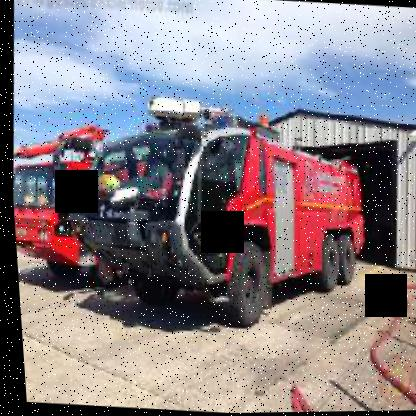emergency: (64, 74, 415, 329), (5, 98, 188, 304)
